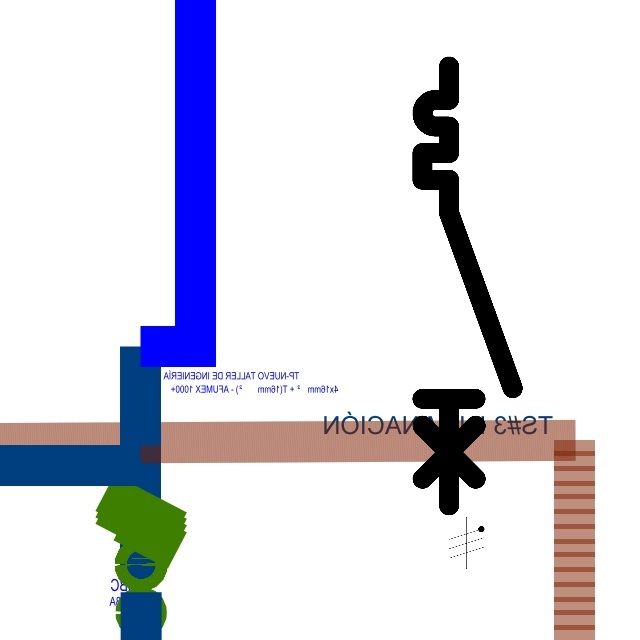interruptor_termomagnetico: (411, 55, 524, 516)
